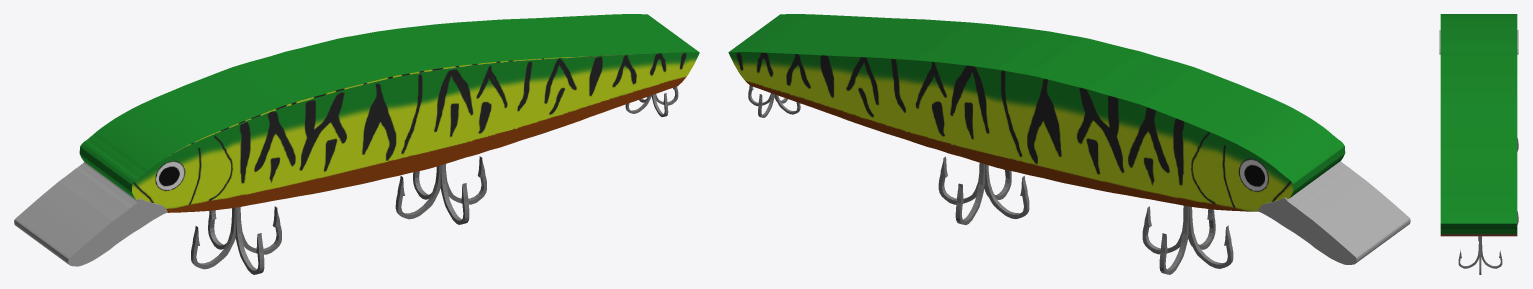
The model's file is Spinner.fbx.
3 renders of one model, left to right at view 1: azimuth 30°, elevation 25°; view 2: azimuth 150°, elevation 25°; view 3: azimuth 270°, elevation 25°, orthographic. The views are drawn at different scales.
Visible parts, largest first — view 1: Spinner_Body, Spinner_Front, Hook_Clone__Clone_, Hook_Clone_, Hook_Clone__Clone__1, Hook_Clone__1, Hook, Hook__1_; view 2: Spinner_Body, Spinner_Front, Hook_Clone__Clone__Clone_, Hook_Clone_, Hook_Clone__Clone__Clone__1, Hook_Clone__1, Hook__1_, Hook; view 3: Spinner_Body, Hook_Clone__Clone__2, Hook_Clone__Clone__Clone__2, Hook__2_, Spinner_Front.
Part boxes in pixels (box(x1,y1,x2,y2)): Spinner_Body: box(79, 14, 699, 212); Spinner_Front: box(14, 162, 167, 266); Hook_Clone__Clone_: box(235, 207, 264, 274); Hook_Clone_: box(191, 207, 235, 269); Hook_Clone__Clone__1: box(440, 164, 469, 224); Hook_Clone__1: box(395, 165, 440, 219); Hook: box(240, 206, 281, 254); Hook__1_: box(445, 156, 486, 204); Spinner_Body: box(728, 14, 1345, 211); Spinner_Front: box(1257, 161, 1410, 264); Hook_Clone__Clone__Clone_: box(1159, 205, 1188, 274); Hook_Clone_: box(1188, 206, 1233, 268); Hook_Clone__Clone__Clone__1: box(955, 163, 984, 224); Hook_Clone__1: box(984, 164, 1029, 218); Hook__1_: box(938, 156, 979, 204); Hook: box(1142, 206, 1182, 254); Spinner_Body: box(1440, 14, 1517, 236); Hook_Clone__Clone__2: box(1458, 236, 1480, 268); Hook_Clone__Clone__Clone__2: box(1481, 236, 1502, 268); Hook__2_: box(1479, 239, 1481, 274); Spinner_Front: box(1439, 30, 1518, 54).
Bounding box in the file's own units: 1412 × 365 × 208.
